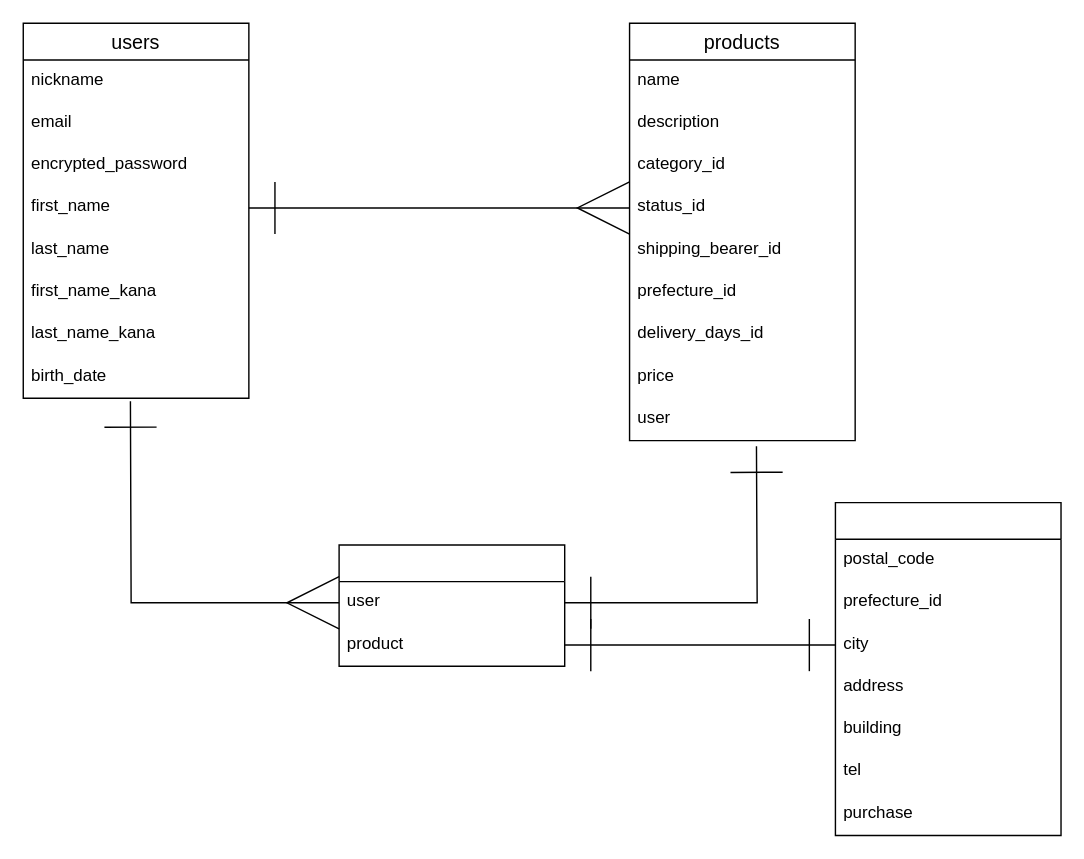
This 1084x859 diagram has some shape labels left out. The shapes that lost their labels are listed below. From the top down, each one's box as (x1, y1, x2, y2) in pixels, then its label:
(338, 544, 565, 666): purchases
(834, 501, 1061, 835): mailings
